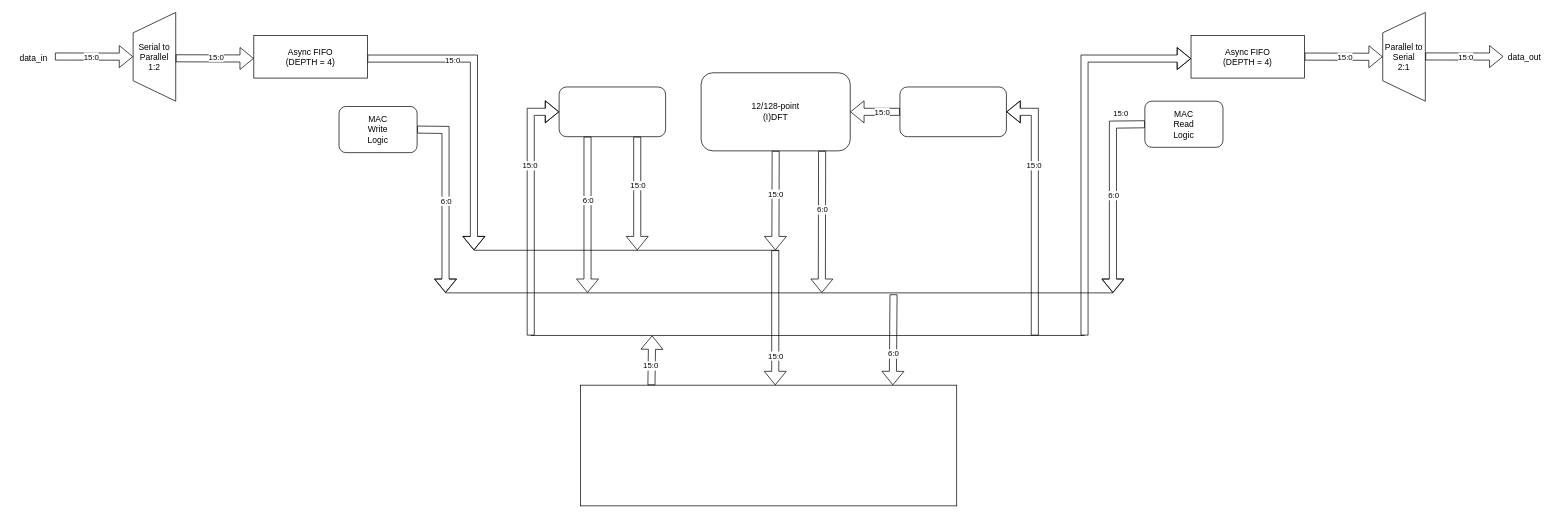
The diagram is 1558 pixels wide and 518 high, and some of its shapes have lost their labels. Each missing label, with the centre of its shape:
"Equalizer" belongs at (x=952, y=111).
"SRAM (Data) 128x16b" belongs at (x=768, y=445).
"Subcarrier (De-)Mapper" belongs at (x=612, y=111).
